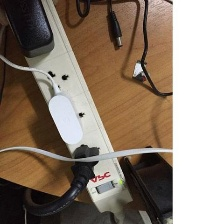three_eye_plug: (0, 0, 137, 216)
